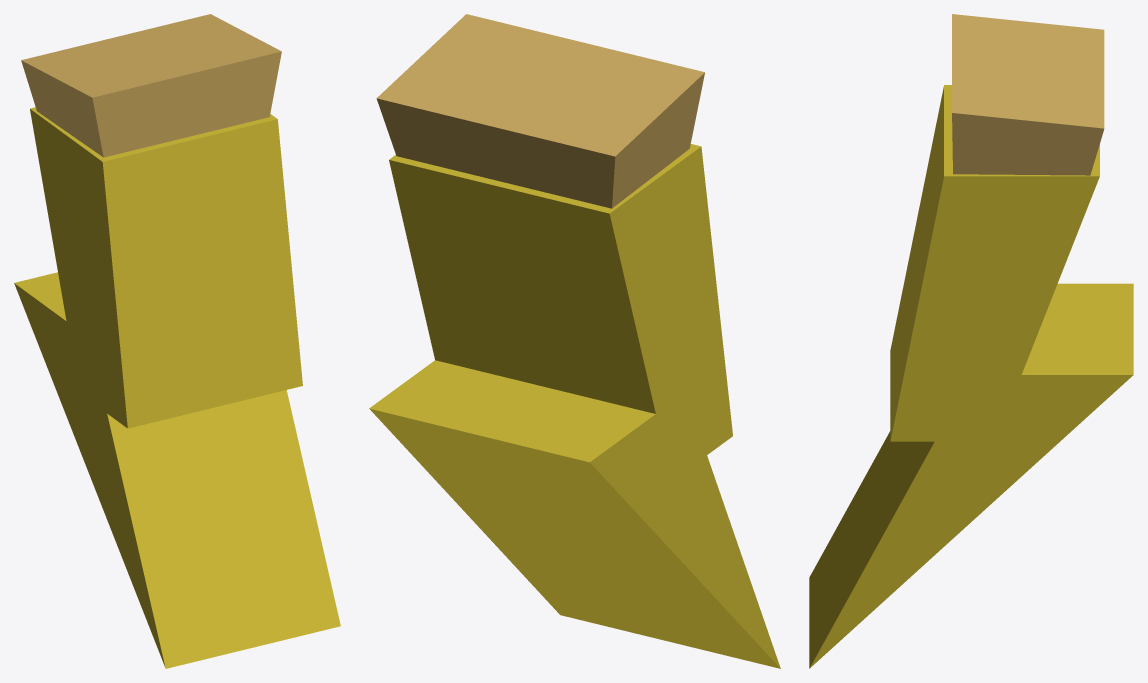
File: potion_fast.fbx
3 renders of one model, left to right at view 1: azimuth 30°, elevation 25°; view 2: azimuth 150°, elevation 25°; view 3: azimuth 270°, elevation 25°, orthographic. The views are drawn at different scales.
Parts seen in each view (by area): view 1: Cube.001, Cube, Cube.002; view 2: Cube.001, Cube, Cube.002; view 3: Cube.001, Cube, Cube.002.
Boxes of the visible parts, x1=… form: Cube.001: x1=30, y1=107, x2=302, y2=428; Cube: x1=14, y1=272, x2=340, y2=668; Cube.002: x1=21, y1=14, x2=281, y2=157; Cube.001: x1=389, y1=144, x2=732, y2=480; Cube: x1=369, y1=360, x2=780, y2=668; Cube.002: x1=376, y1=14, x2=704, y2=208; Cube.001: x1=890, y1=85, x2=1099, y2=441; Cube: x1=809, y1=283, x2=1133, y2=668; Cube.002: x1=952, y1=14, x2=1104, y2=175.
Bounding box in the file's own units: 144 × 381 × 200.
